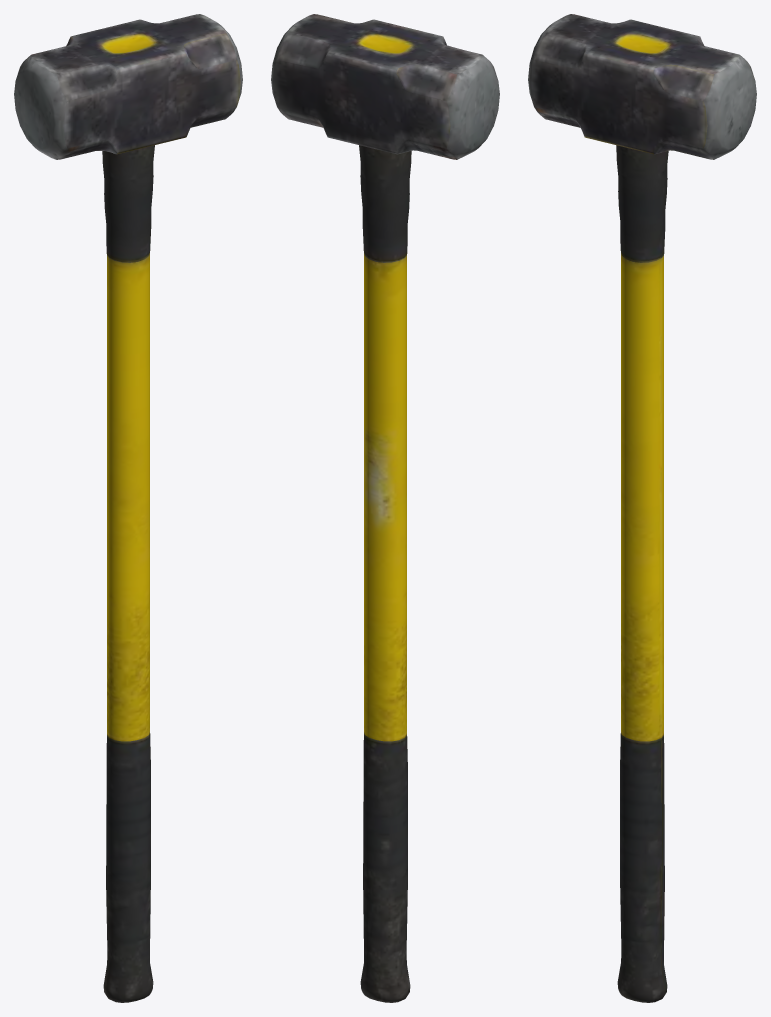
File: sledgehammer_01.glb
The picture shows the model from 3 angles, left to right: view 1: azimuth 30°, elevation 25°; view 2: azimuth 150°, elevation 25°; view 3: azimuth 330°, elevation 25°; orthographic projection.
Parts seen in each view (by area): view 1: sledgehammer_01; view 2: sledgehammer_01; view 3: sledgehammer_01.
Part boxes in pixels (left/top/right/bottom): sledgehammer_01: left=14, top=14, right=242, bottom=1002; sledgehammer_01: left=271, top=14, right=499, bottom=1002; sledgehammer_01: left=528, top=14, right=756, bottom=1002.
Size of the model in its own units: 0.2079 by 1.01 by 0.0905.
1 material, 1 textured.
